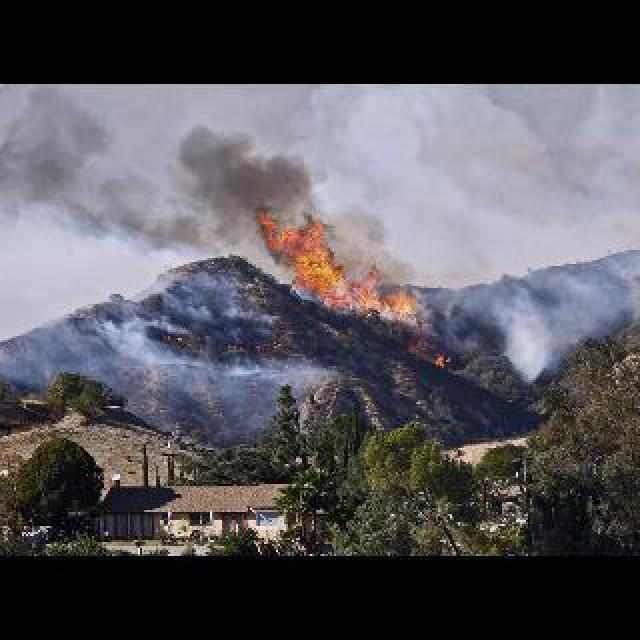fire: (266, 208, 428, 312), (408, 336, 430, 350), (176, 334, 186, 344), (434, 352, 442, 364)
smoke: (6, 114, 314, 260)
